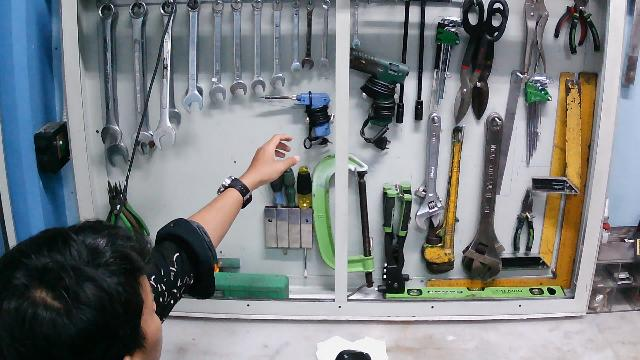solder_electrical: (260, 91, 334, 148)
